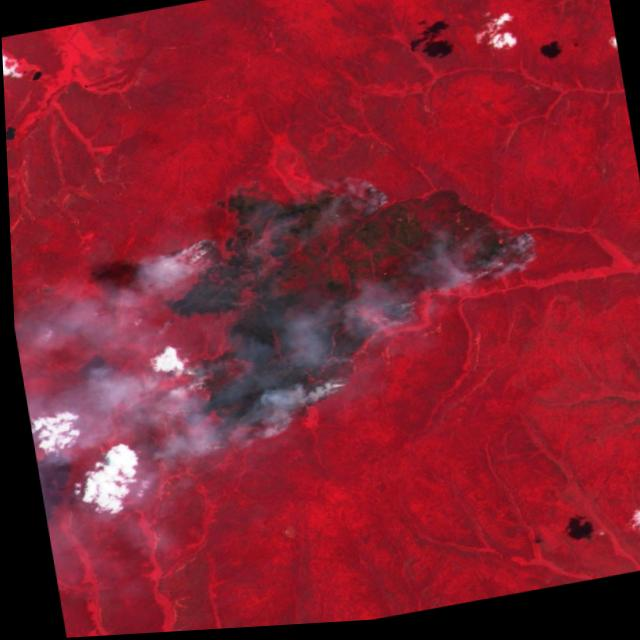fire: (441, 229, 561, 304), (257, 379, 350, 441), (355, 294, 420, 348), (326, 178, 392, 227), (165, 230, 221, 274), (171, 363, 211, 397), (197, 437, 231, 465), (219, 298, 244, 318)
